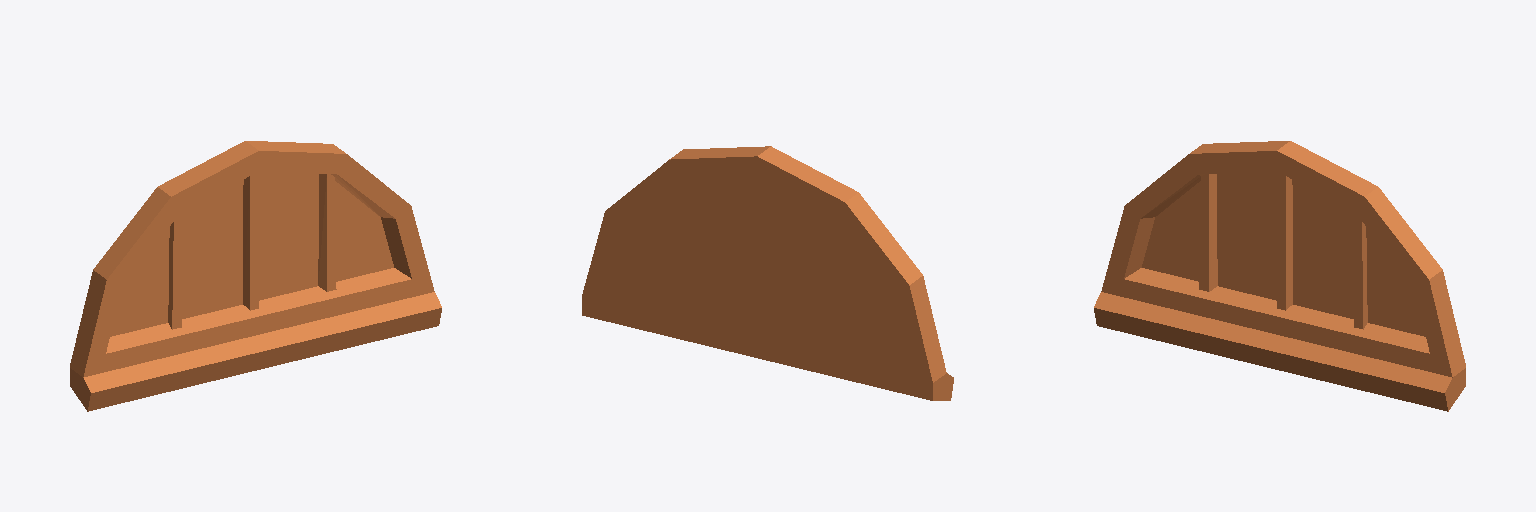
The model's file is round_window_small.obj.
3 views of the same model, side by side, from view 1: azimuth 30°, elevation 25°; view 2: azimuth 150°, elevation 25°; view 3: azimuth 330°, elevation 25° (orthographic).
Parts seen in each view (by area): view 1: Cylinder001; view 2: Cylinder001; view 3: Cylinder001.
Boxes of the visible parts, <box> form: Cylinder001: <box>70,141,441,411</box>; Cylinder001: <box>582,146,953,400</box>; Cylinder001: <box>1094,141,1465,411</box>.
Size of the model in its own units: 7.9 by 4.61 by 0.8346.